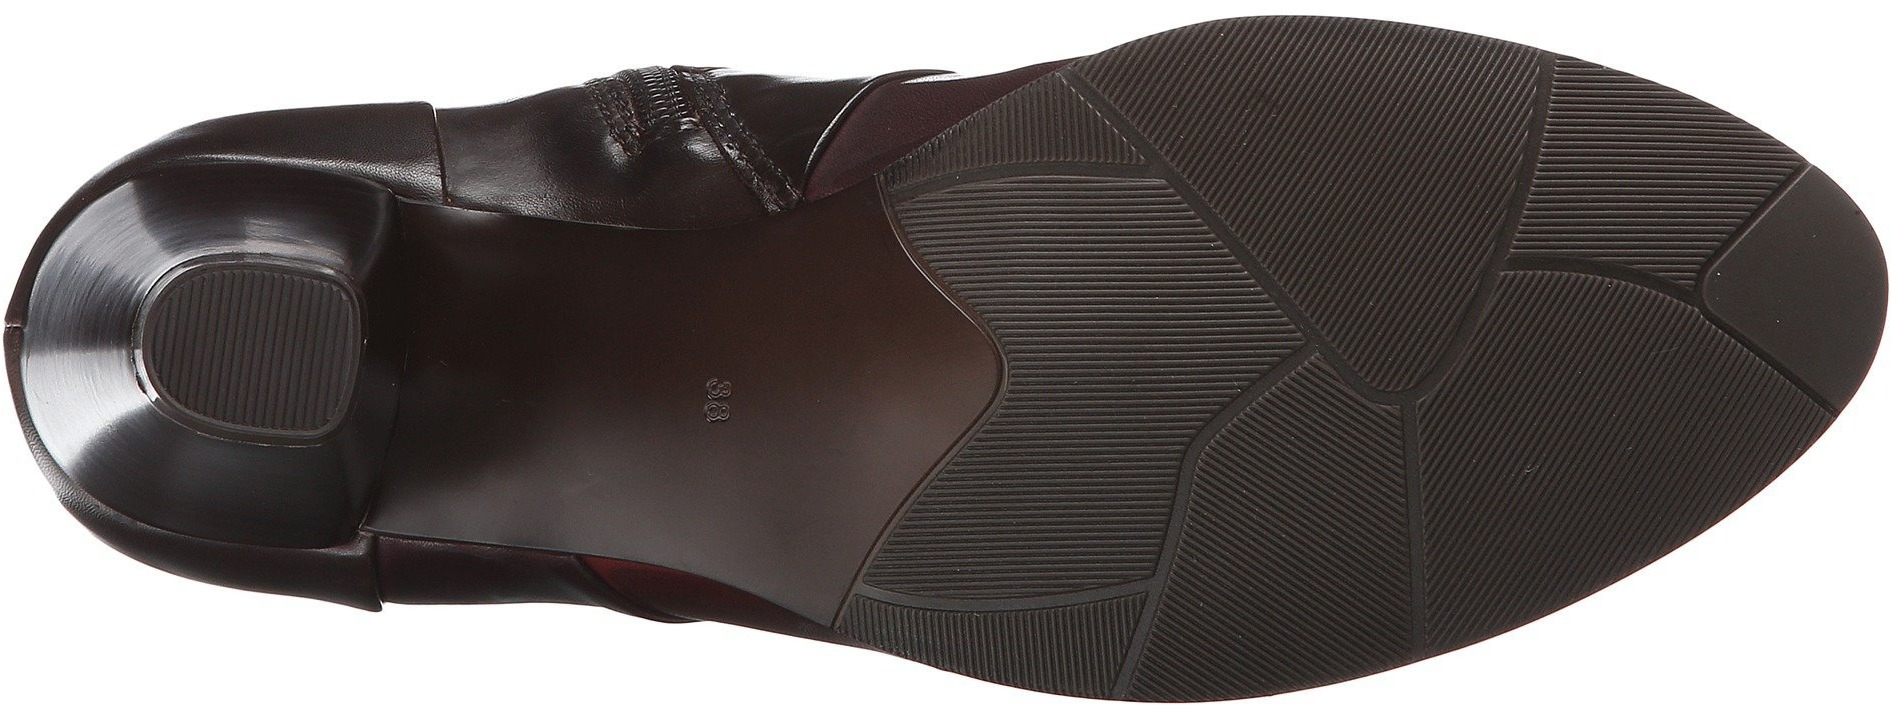exclude: (6, 51, 703, 693)
other: (1032, 106, 1339, 404), (1370, 103, 1621, 349), (989, 428, 1219, 670), (1268, 418, 1499, 642), (1507, 364, 1684, 544), (202, 278, 320, 418), (1754, 229, 1874, 342), (1648, 170, 1733, 247)
text: (693, 367, 775, 444)
